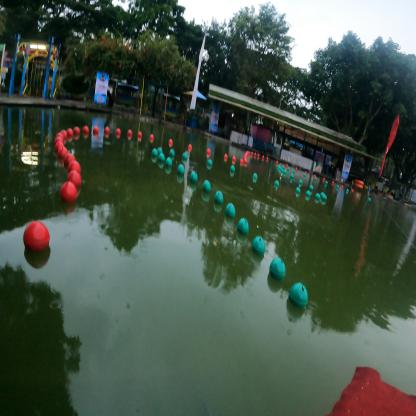green_buoy: (288, 281, 308, 309), (268, 257, 286, 282), (237, 218, 250, 235), (224, 202, 236, 218), (214, 190, 224, 204), (202, 179, 211, 193), (190, 170, 198, 183), (177, 164, 185, 175), (158, 152, 165, 164), (165, 157, 172, 168), (151, 148, 158, 157), (169, 148, 175, 158), (182, 152, 188, 160), (252, 172, 258, 180), (157, 147, 162, 156), (274, 182, 279, 191), (230, 165, 235, 173), (207, 159, 212, 166)
red_buoy: (23, 219, 50, 252), (60, 182, 78, 203), (251, 235, 266, 256), (68, 171, 82, 187), (68, 161, 81, 176), (64, 152, 76, 168), (57, 147, 68, 159), (54, 140, 64, 152), (54, 136, 63, 145), (60, 129, 68, 139), (56, 132, 64, 141), (82, 125, 89, 133), (67, 128, 73, 137), (74, 126, 80, 134), (93, 126, 99, 134), (104, 126, 109, 134), (127, 129, 132, 136), (116, 128, 121, 134), (149, 134, 154, 140), (138, 131, 142, 138), (168, 139, 172, 145), (188, 144, 192, 150), (224, 154, 228, 158), (207, 149, 210, 154)
